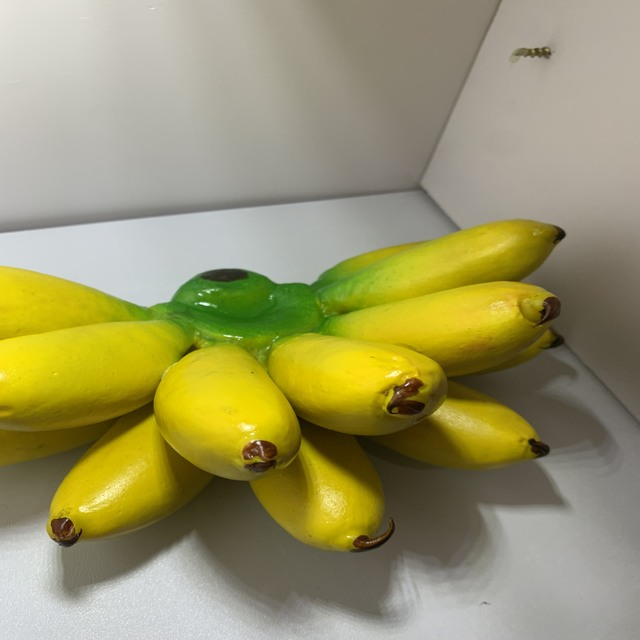Chuoi: (0, 211, 570, 564)
